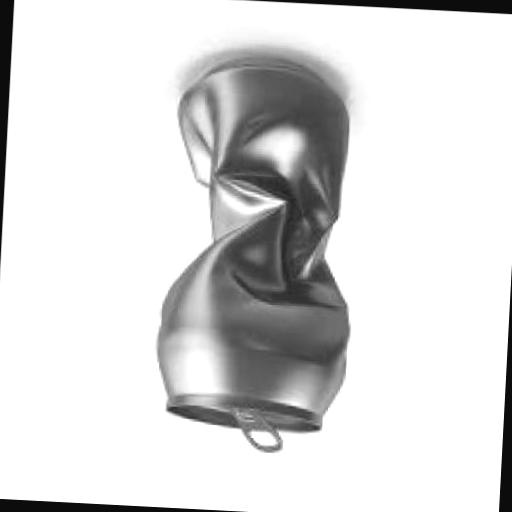metal: (149, 52, 361, 458)
